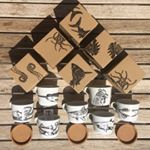cups: (110, 97, 142, 124), (88, 108, 118, 136), (6, 98, 36, 125), (61, 100, 90, 127), (80, 85, 113, 108), (36, 111, 62, 140), (31, 84, 61, 109)
